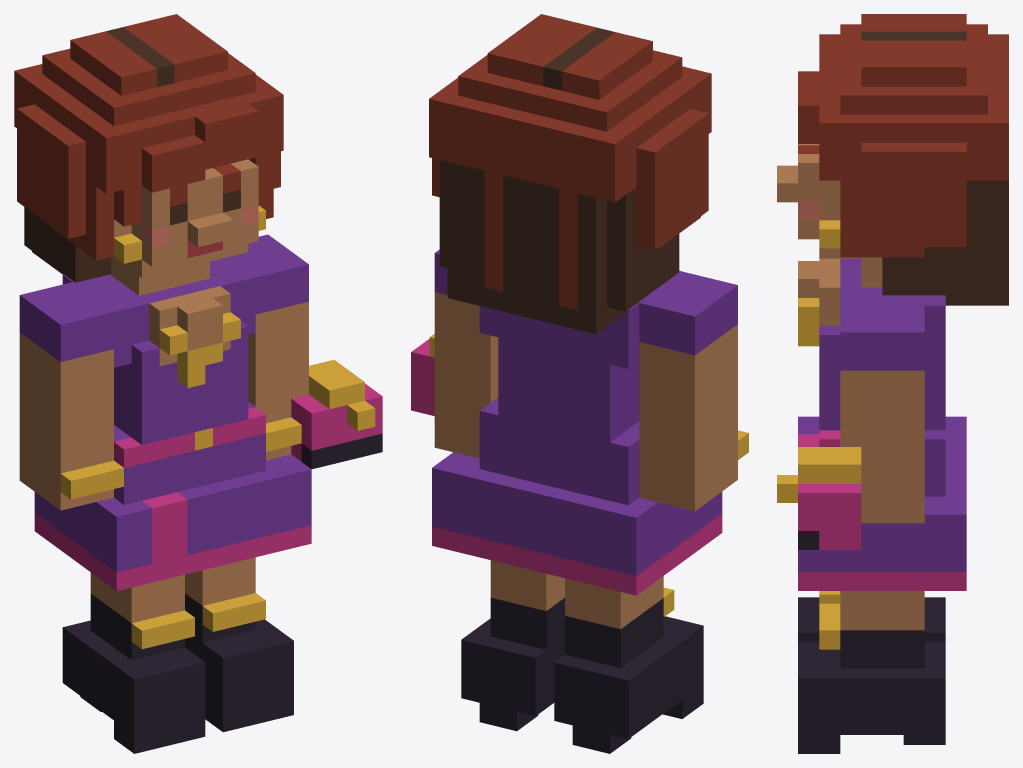
The model's file is party_woman.glb.
3 views of the same model, side by side, from view 1: azimuth 30°, elevation 25°; view 2: azimuth 150°, elevation 25°; view 3: azimuth 270°, elevation 25° (orthographic). The views are drawn at different scales.
Visible parts, largest first — view 1: head, torso, arm_left, leg_left, arm_right, leg_right; view 2: head, torso, arm_left, leg_left, leg_right, arm_right; view 3: head, torso, arm_right, leg_right, leg_left.
Part boxes in pixels (box(x1,y1,x2,y2)): head: box(14, 14, 283, 295); torso: box(34, 257, 311, 590); arm_left: box(19, 282, 123, 510); leg_left: box(62, 572, 205, 753); arm_right: box(228, 234, 382, 469); leg_right: box(185, 557, 293, 732); head: box(429, 14, 711, 334); torso: box(432, 271, 722, 595); arm_left: box(639, 271, 748, 510); leg_left: box(554, 576, 703, 753); leg_right: box(461, 560, 564, 731); arm_right: box(411, 249, 498, 458); head: box(777, 14, 1008, 305); torso: box(798, 258, 966, 590); arm_right: box(777, 305, 924, 549); leg_right: box(798, 591, 945, 753); leg_left: box(798, 591, 945, 641).
Size of the model in its own units: 0.85 by 1.75 by 0.55.
1 material, 1 textured.
